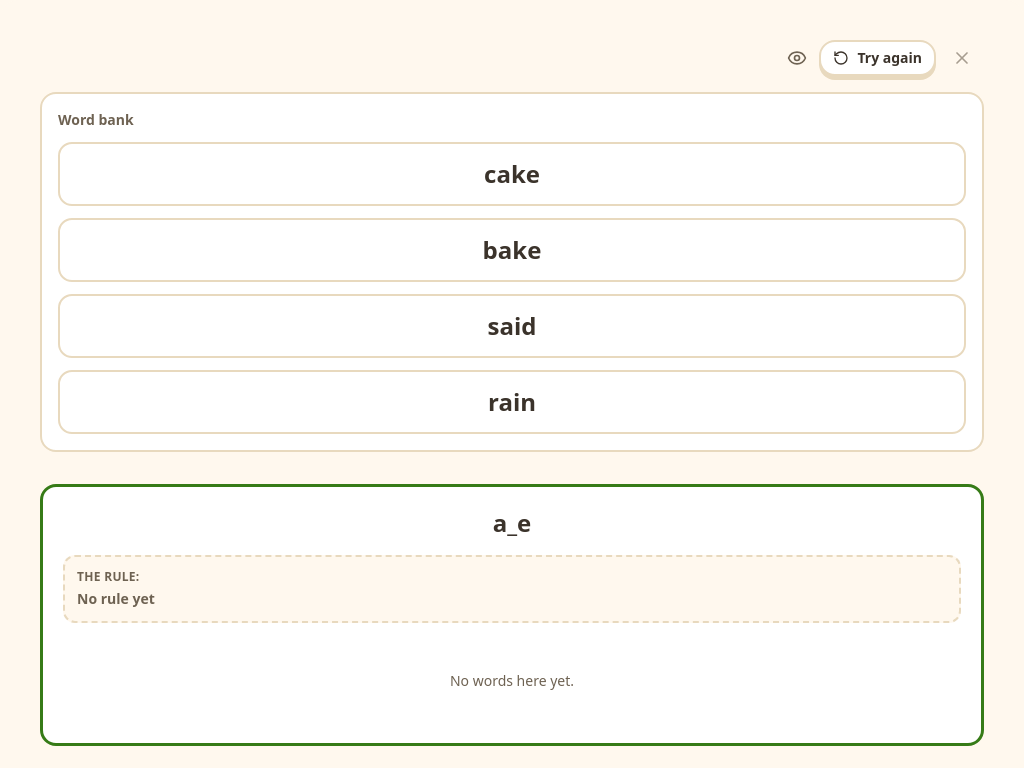
Test: SortActivity rule recall › lets the eyeball toggle hide the fallback rule when the class has no saved rules
Click the button named "Show rules".
click(797, 58)  # box x1=779 y1=40 x2=815 y2=76
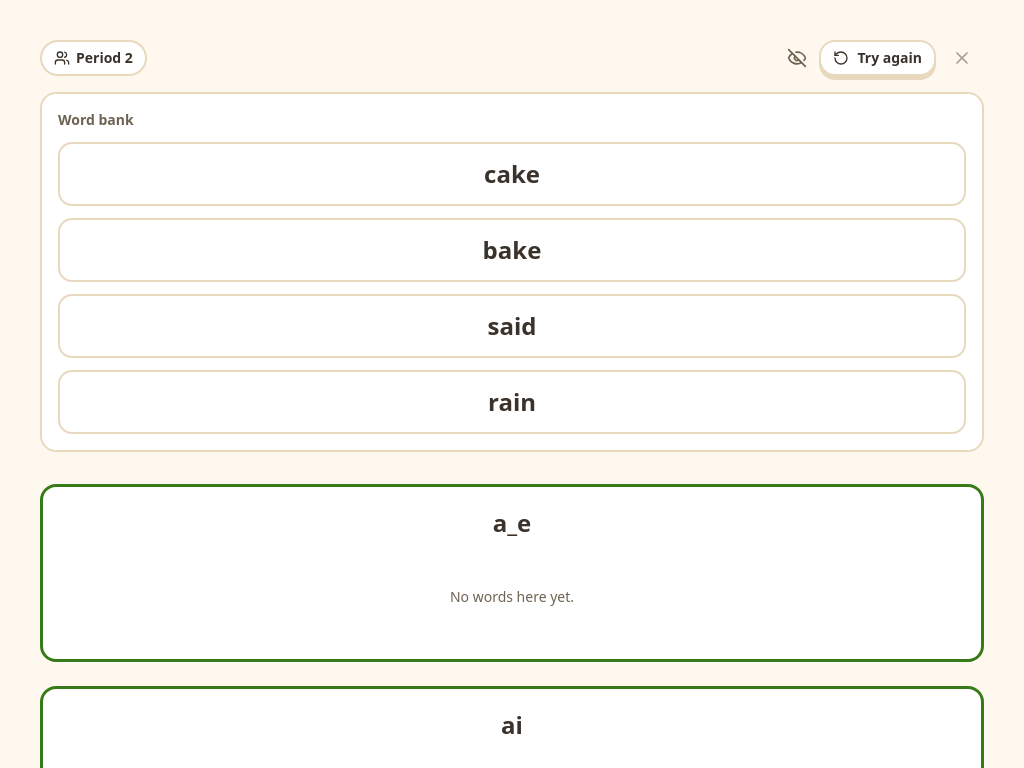
Click the button named "Show rules".
click(797, 58)  # box x1=779 y1=40 x2=815 y2=76
(page scrolled)
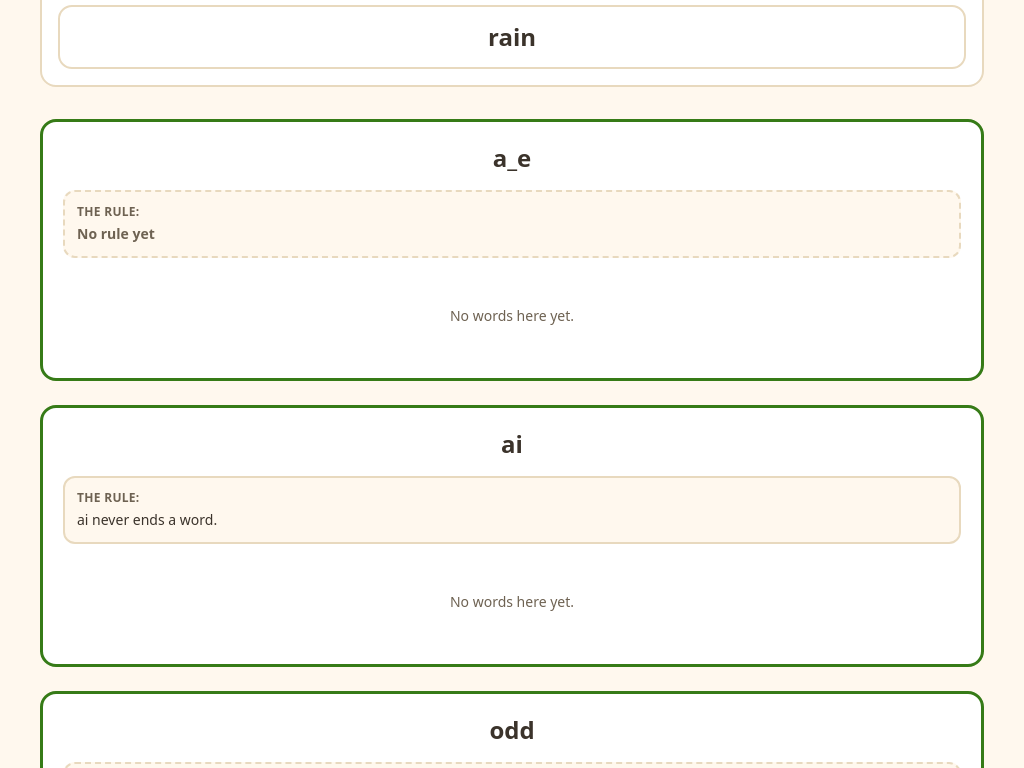
Expected: the text "ai never ends a word." is shown, x1=77 y1=510 x2=217 y2=529
